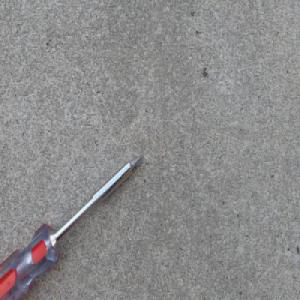Screwdriver: (0, 155, 143, 300)
